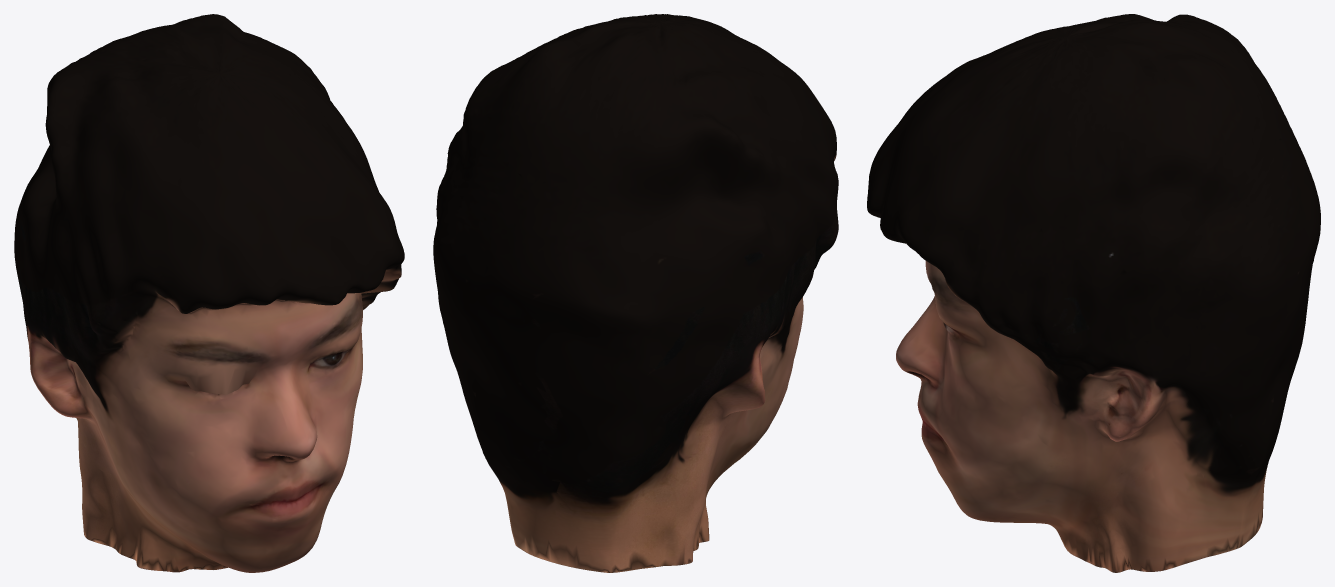
Rendered from TSUDA_190805.fbx.
3 renders of one model, left to right at view 1: azimuth 30°, elevation 25°; view 2: azimuth 150°, elevation 25°; view 3: azimuth 270°, elevation 25°, orthographic.
Parts seen in each view (by area): view 1: head3d; view 2: head3d; view 3: head3d.
Boxes of the visible parts, x1,y1,x2,y2 form: head3d: (14, 14, 404, 572); head3d: (433, 14, 838, 572); head3d: (867, 14, 1320, 572).
Bounding box in the file's own units: 20149 × 30284 × 24200.
